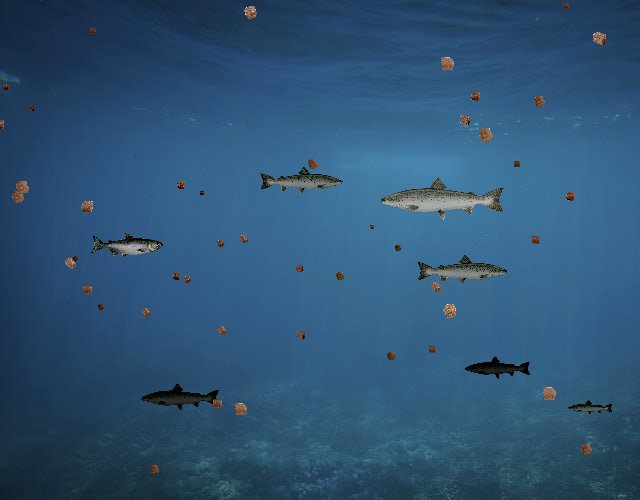Fish: (378, 175, 507, 221), (416, 253, 510, 287), (258, 165, 344, 196), (141, 383, 222, 412), (90, 232, 163, 258), (464, 356, 532, 380), (568, 400, 615, 417)
Pellet: (236, 0, 264, 27), (58, 251, 83, 276), (574, 438, 598, 462), (25, 103, 37, 115)
